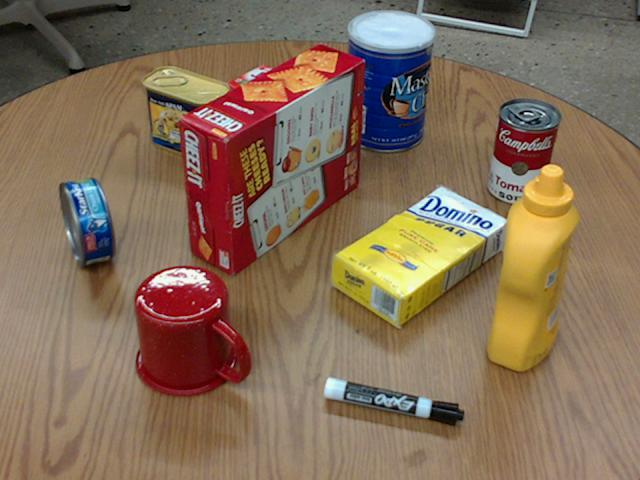cracker_box: (179, 43, 361, 274)
gelatin_box: (225, 63, 310, 119)
large_marker: (324, 377, 463, 425)
master_chef_can: (343, 10, 433, 150)
mug: (134, 265, 247, 395)
mustard_bottle: (488, 165, 579, 370)
potted_meat_can: (142, 65, 228, 159)
sugar_box: (331, 187, 508, 324)
tomato_soup_can: (488, 98, 560, 204)
tuna_fish_can: (59, 178, 116, 266)
